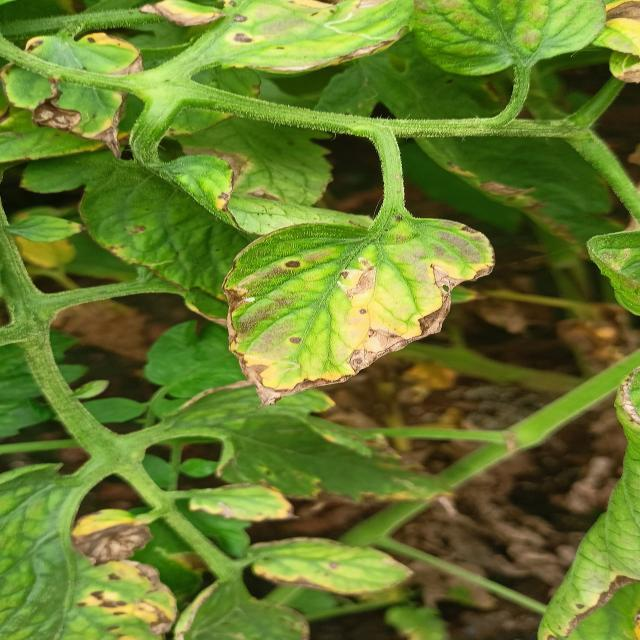Tomato mosaic virus leaf: (213, 218, 500, 412), (0, 29, 152, 168)
